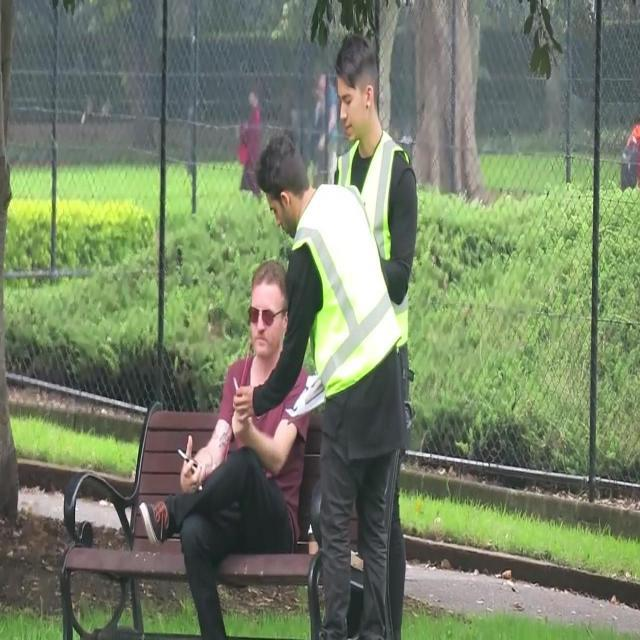reflective_jacket: (289, 158, 415, 410), (328, 129, 416, 266)
